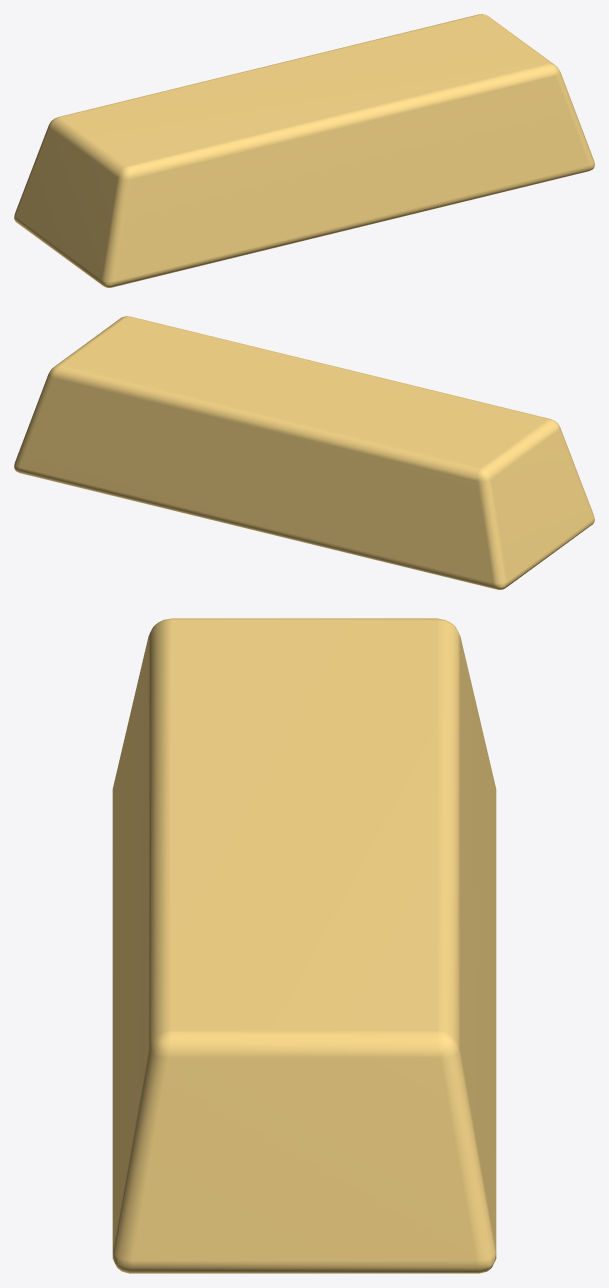
Rendered from gold_bar.glb.
3 renders of one model, top to bottom at view 1: azimuth 30°, elevation 25°; view 2: azimuth 150°, elevation 25°; view 3: azimuth 270°, elevation 25°, orthographic. The views are drawn at different scales.
Visible parts, largest first — view 1: gold_bar; view 2: gold_bar; view 3: gold_bar.
Boxes of the visible parts, box(x1,y1,x2,y2) form: gold_bar: box(14, 14, 594, 287); gold_bar: box(14, 316, 594, 589); gold_bar: box(112, 618, 496, 1273).
Bounding box in the file's own units: 0.2182 × 0.045 × 0.0736.
